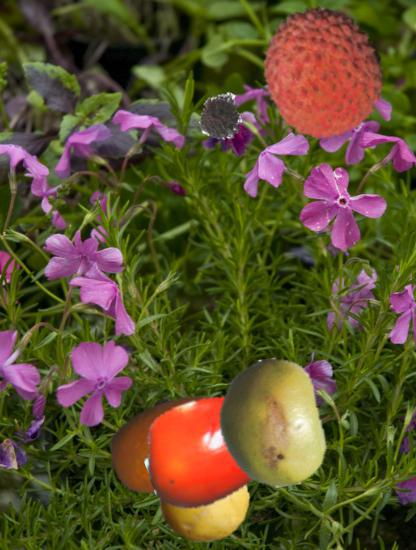Grapefruit: (159, 452, 253, 546)
Kaki: (144, 382, 281, 519)
Kumquats: (108, 378, 242, 512)
Lychee: (254, 4, 390, 140)
Plum: (146, 402, 214, 470)
Pomelo: (207, 359, 336, 488)
Rambutan: (197, 91, 248, 142)
